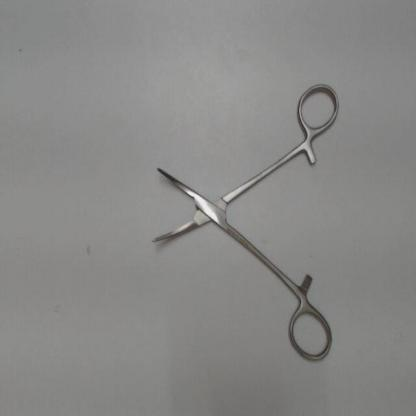Crile Artery Forceps: (147, 76, 344, 376)
